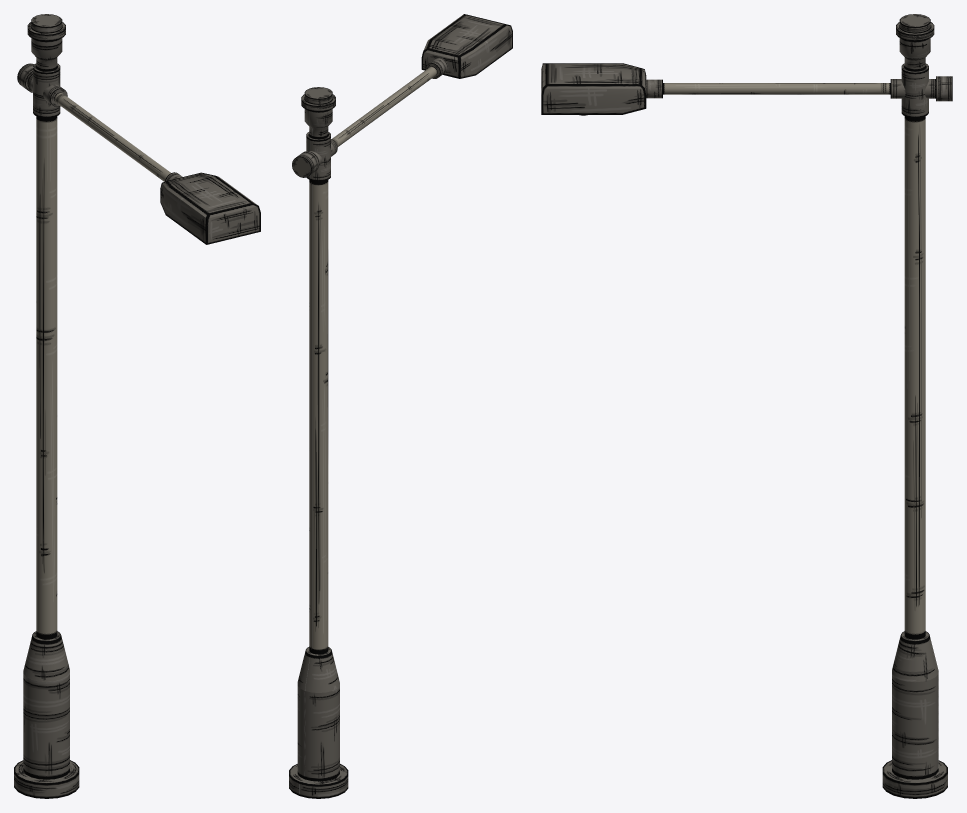
The model's file is StreetLight 1.FBX.
3 renders of one model, left to right at view 1: azimuth 30°, elevation 25°; view 2: azimuth 150°, elevation 25°; view 3: azimuth 270°, elevation 25°, orthographic. The views are drawn at different scales.
Visible parts, largest first — view 1: Box001; view 2: Box001; view 3: Box001.
Part boxes in pixels (x1,y1,x2,y2): Box001: (14,14,260,798); Box001: (289,14,512,798); Box001: (541,14,952,798).
Bounding box in the file's own units: 90.67 × 1154 × 562.
